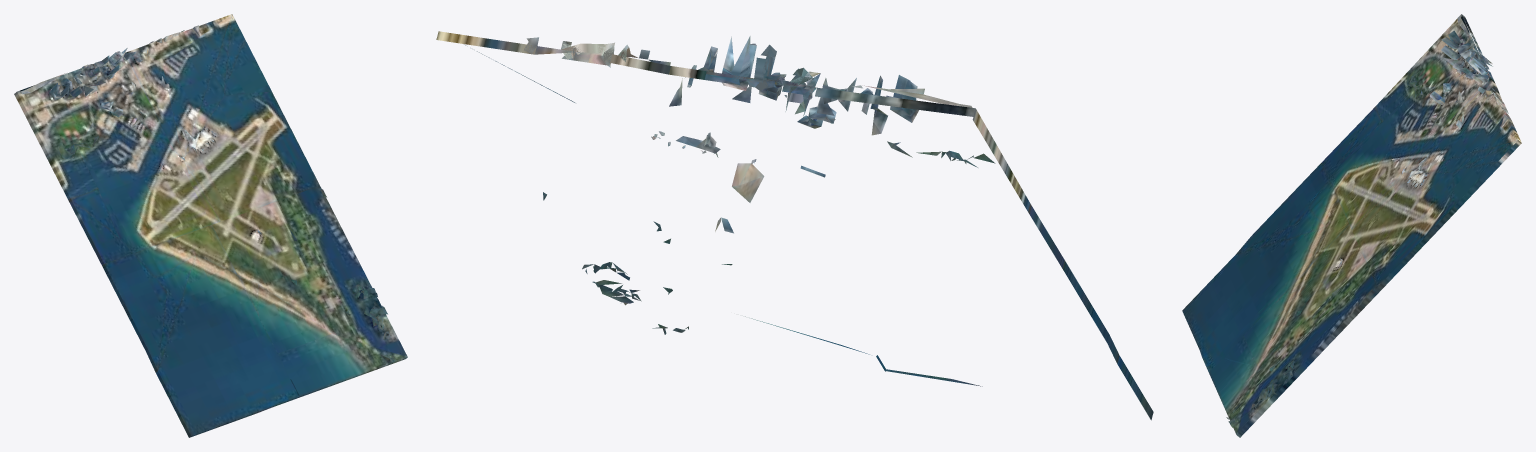
Rendered from AJVsH2yhwZcORshU2xTNXwEmoUNL2TUBcWbOZGub0jgy8enZHfSel1a9X5Vii84q8Yy3dqXnM4JUZ3HwcHe3muypZqaQ8eou50kKNnWRIlxfYLuGZQpCNchTkVZlM0IMRcp-QbV_qgW-NIj5ryJpf1MWY3I2.glb.
The picture shows the model from 3 angles, left to right: view 1: azimuth 30°, elevation 25°; view 2: azimuth 150°, elevation 25°; view 3: azimuth 270°, elevation 25°; orthographic projection. The views are drawn at different scales.
Bounding box in the file's own units: 2059 × 1891 × 1998.
Materials: 1 (1 with a texture image).
